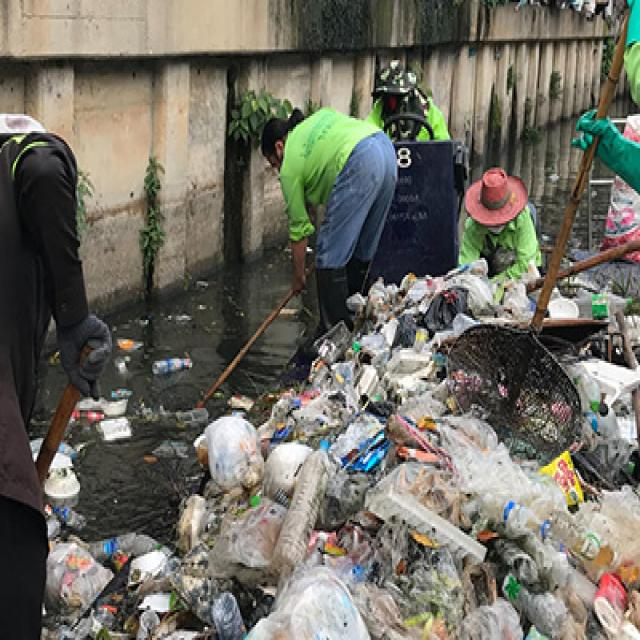-: (311, 234, 564, 640), (136, 328, 238, 483)
